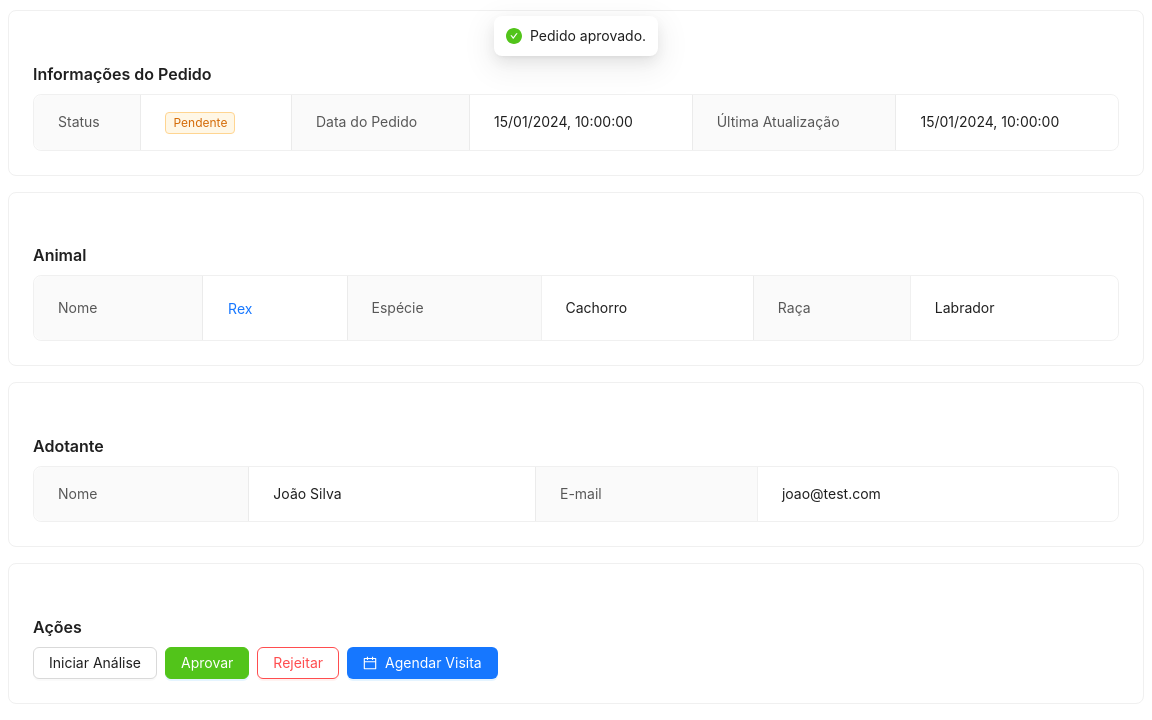
Test: AdoptionRequestDetailPage - Actions › should open reject modal when clicking Rejeitar
(page scrolled)
Click the button "Rejeitar": coordinates (298, 663) [257, 647, 339, 679]
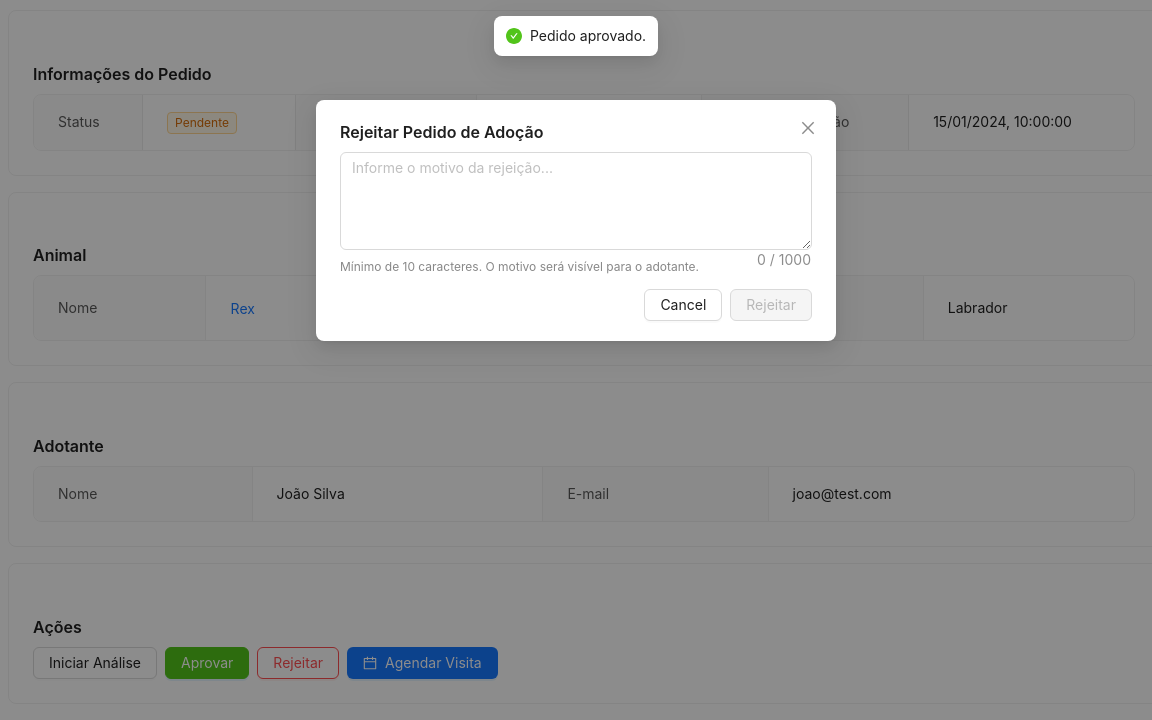
Result: the text "Rejeitar Pedido de Adoção" is shown at [340, 122, 543, 142]
